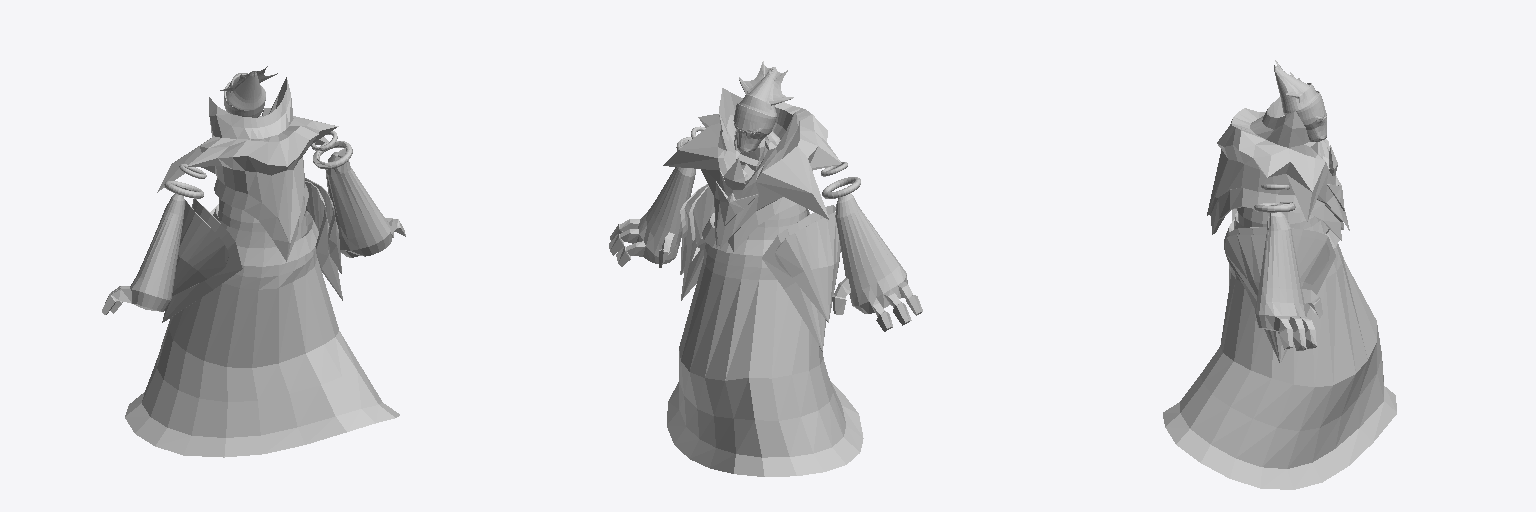
File: RATH_IDLE_24FPS.0048.obj
3 renders of one model, left to right at view 1: azimuth 30°, elevation 25°; view 2: azimuth 150°, elevation 25°; view 3: azimuth 270°, elevation 25°, orthographic.
Visible parts, largest first — view 1: pasted__pasted__pTorus3; view 2: pasted__pasted__pTorus3; view 3: pasted__pasted__pTorus3.
Part boxes in pixels (x1,y1,x2,y2): pasted__pasted__pTorus3: (102, 66, 405, 457); pasted__pasted__pTorus3: (609, 61, 922, 476); pasted__pasted__pTorus3: (1163, 60, 1396, 489).
Bounding box in the file's own units: 153 × 182 × 101.